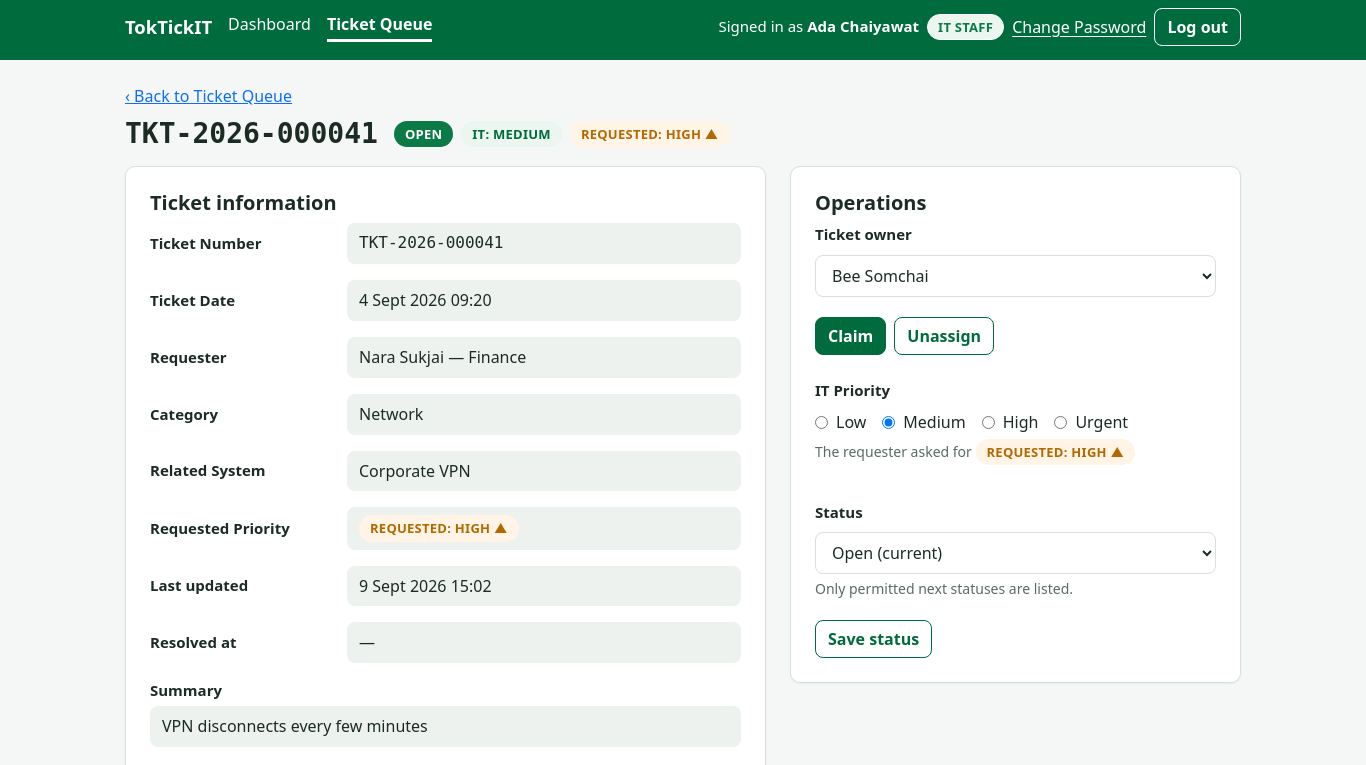
Test: 409 callouts reset their control (ui-spec §8.4) › INVALID_ASSIGNEE: a warning callout, and the owner select returns to the current owner
The image size is (1366, 765).
Select "Chai Admin" in the dropdown labelled "Ticket owner" at (1016, 276), box x1=815 y1=255 x2=1216 y2=297
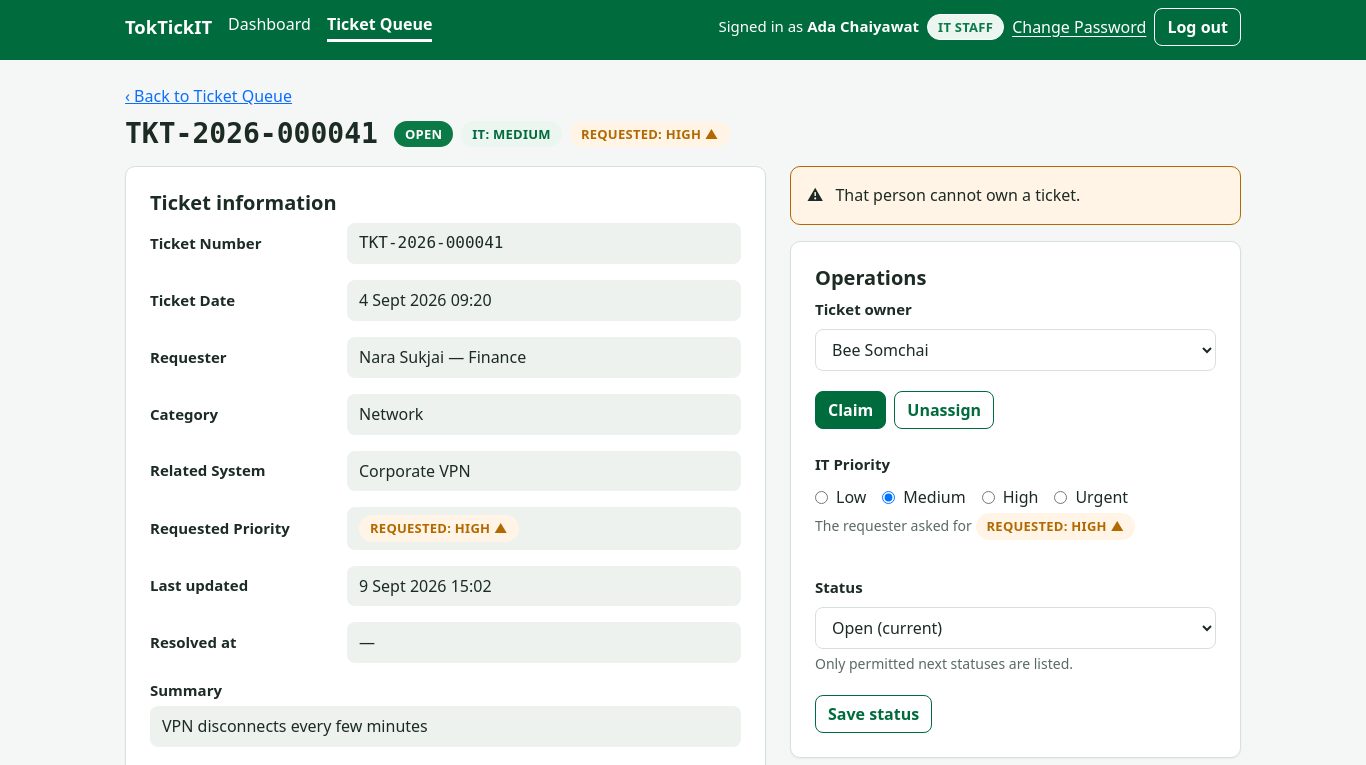
Check: the message shows "That person cannot own a ticket.", box x1=835 y1=184 x2=1080 y2=206
